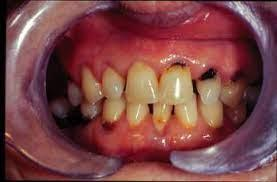Caries: (168, 51, 191, 75), (100, 113, 122, 132), (200, 66, 221, 85)
